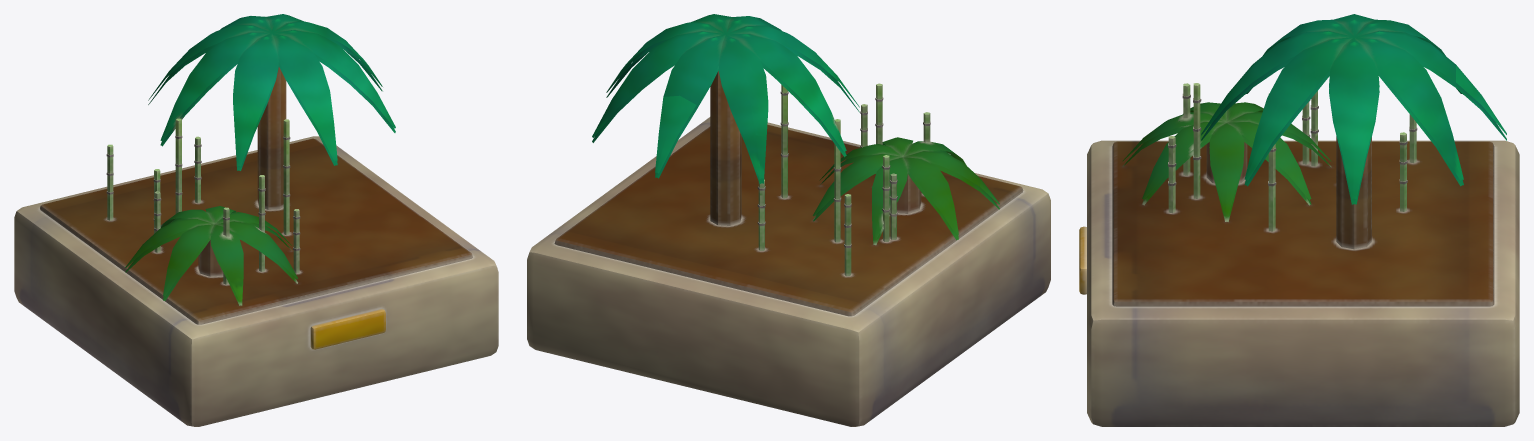
The model's file is fern_garden.glb.
The picture shows the model from 3 angles, left to right: view 1: azimuth 30°, elevation 25°; view 2: azimuth 150°, elevation 25°; view 3: azimuth 270°, elevation 25°; orthographic projection. The views are drawn at different scales.
Parts seen in each view (by area): view 1: SM_FernGarden; view 2: SM_FernGarden; view 3: SM_FernGarden.
Part boxes in pixels (x1=…): SM_FernGarden: x1=14, y1=14, x2=498, y2=426; SM_FernGarden: x1=527, y1=14, x2=1050, y2=426; SM_FernGarden: x1=1079, y1=14, x2=1519, y2=426.
Size of what is drawn, in the model's own units: 1.7 by 1.43 by 1.73.
1 material, 1 textured.
